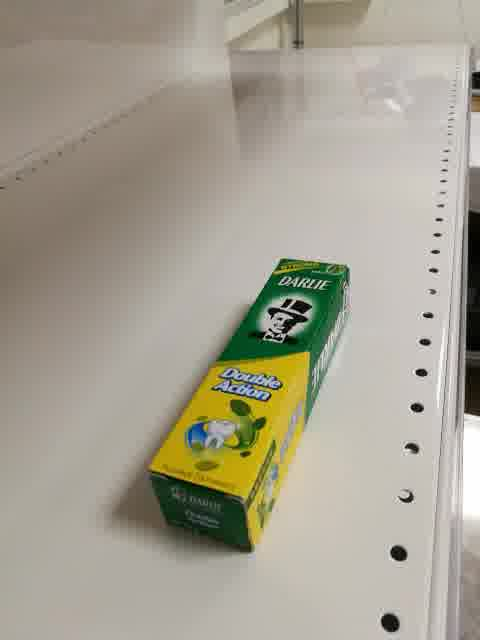toothpaste: (146, 259, 350, 554)
